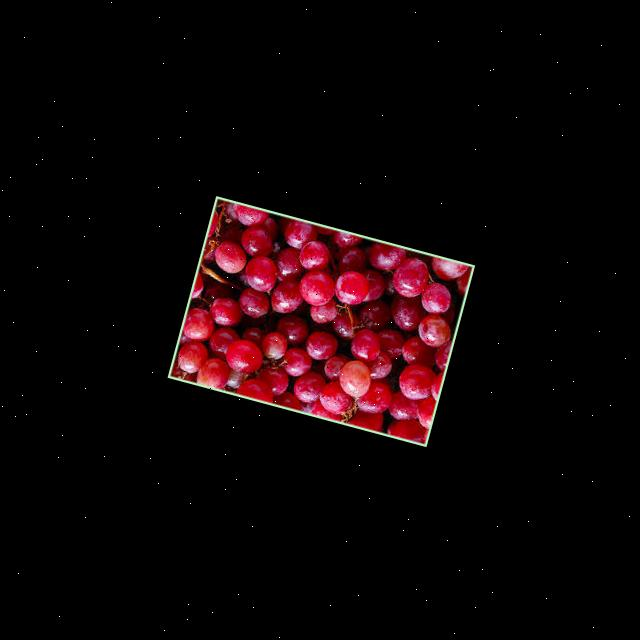grape: (170, 198, 471, 443)
